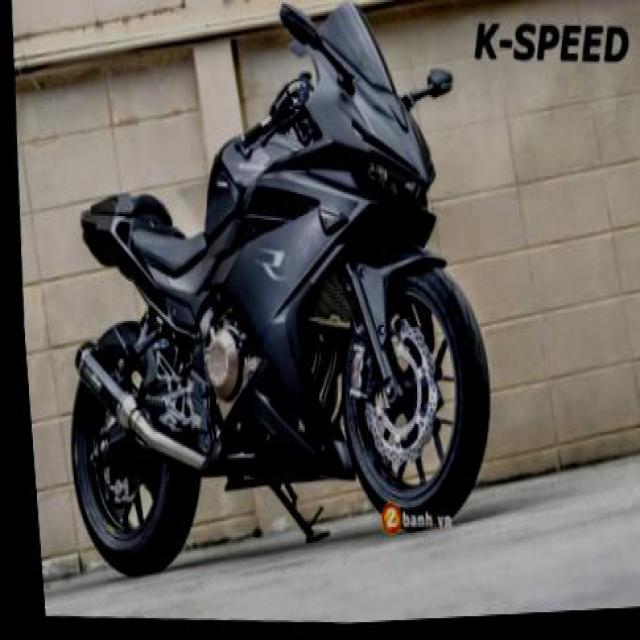CBR500R: (31, 0, 513, 609)
